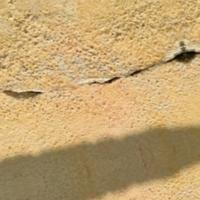crack: (3, 41, 198, 110)
